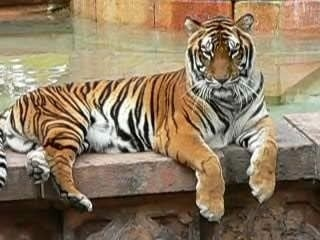tigre: (1, 11, 279, 224)
